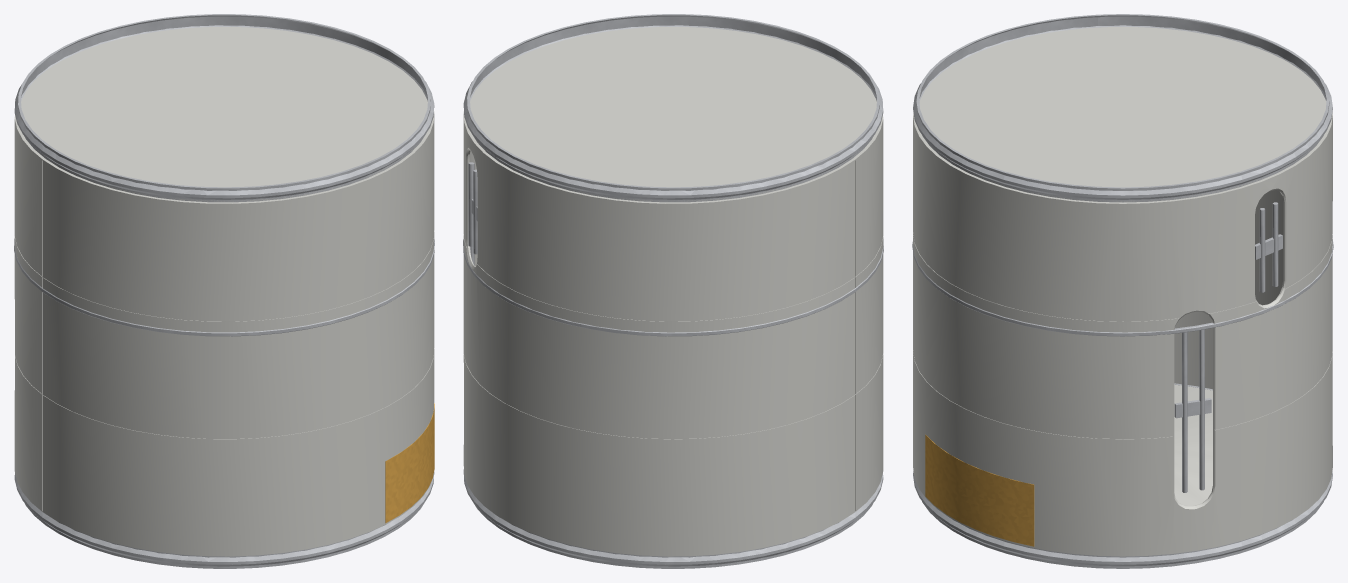
Rendered from ax_tank_03_heavy_methalox_xxl_short.glb.
3 renders of one model, left to right at view 1: azimuth 30°, elevation 25°; view 2: azimuth 150°, elevation 25°; view 3: azimuth 270°, elevation 25°, orthographic.
Parts seen in each view (by area): view 1: tank_barrel, dome_caps, end_rings, mli_patch, common_bulkhead_ring; view 2: tank_barrel, dome_caps, end_rings, common_bulkhead_ring, raceway_lines; view 3: tank_barrel, dome_caps, end_rings, mli_patch, raceway_lines, common_bulkhead_ring.
Boxes of the visible parts, <box> form: tank_barrel: <box>14,111,434,556</box>; dome_caps: <box>21,27,427,556</box>; end_rings: <box>14,14,434,568</box>; mli_patch: <box>385,403,434,523</box>; common_bulkhead_ring: <box>14,239,434,336</box>; tank_barrel: <box>463,111,883,556</box>; dome_caps: <box>470,27,876,556</box>; end_rings: <box>463,14,883,568</box>; common_bulkhead_ring: <box>463,239,883,336</box>; raceway_lines: <box>468,162,477,265</box>; tank_barrel: <box>913,113,1332,556</box>; dome_caps: <box>919,27,1326,556</box>; end_rings: <box>913,14,1332,568</box>; mli_patch: <box>925,434,1034,546</box>; raceway_lines: <box>1174,202,1282,492</box>; common_bulkhead_ring: <box>912,239,1333,336</box>.
Bounding box in the file's own units: 7.52 × 7.5 × 7.52.
3 materials, 2 textured.
